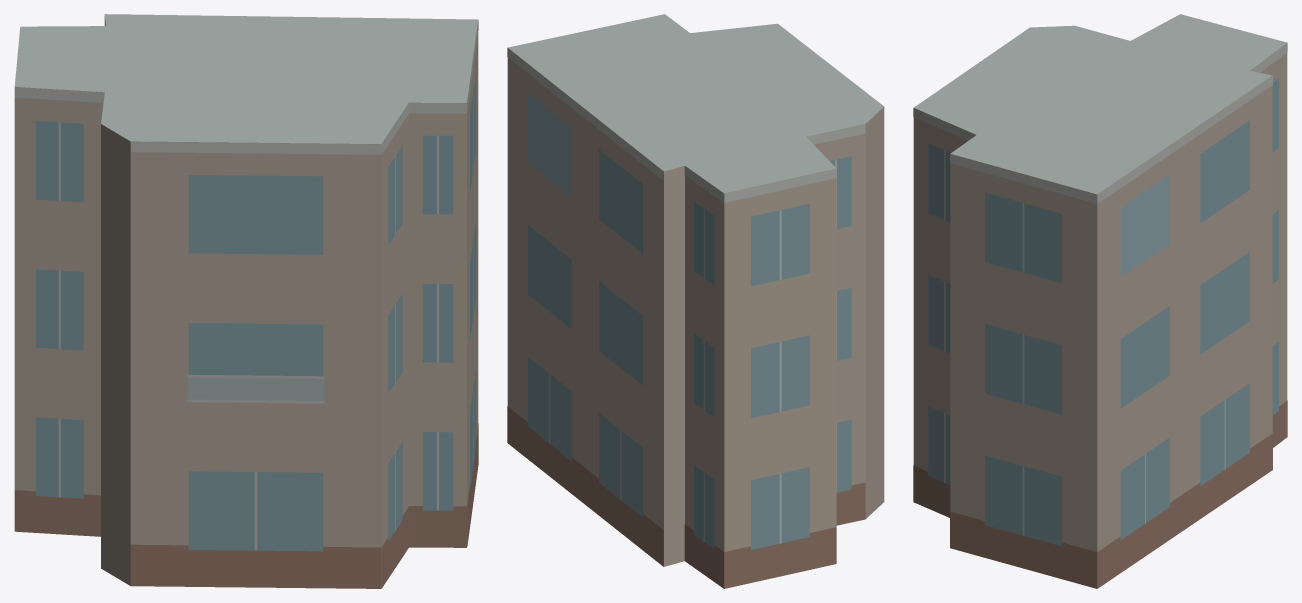
Rendered from survey-upis-33026788.glb.
3 renders of one model, left to right at view 1: azimuth 30°, elevation 25°; view 2: azimuth 150°, elevation 25°; view 3: azimuth 270°, elevation 25°, orthographic. The views are drawn at different scales.
Parts seen in each view (by area): view 1: survey-upis-33026788.tmp; view 2: survey-upis-33026788.tmp; view 3: survey-upis-33026788.tmp.
Part boxes in pixels (left/top/right/bottom): survey-upis-33026788.tmp: left=14, top=14, right=478, bottom=588; survey-upis-33026788.tmp: left=507, top=14, right=884, bottom=588; survey-upis-33026788.tmp: left=913, top=14, right=1287, bottom=588.
Size of the model in its own units: 9.92 by 10.1 by 8.69.
